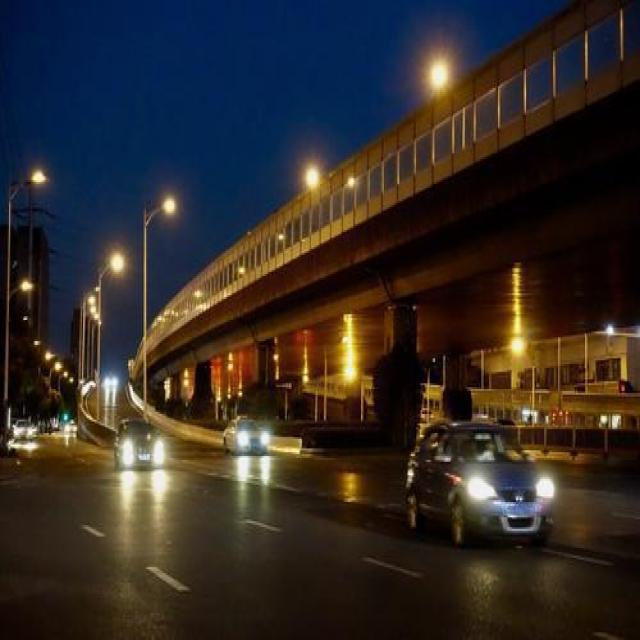other: (491, 276, 533, 362), (326, 314, 366, 398)
